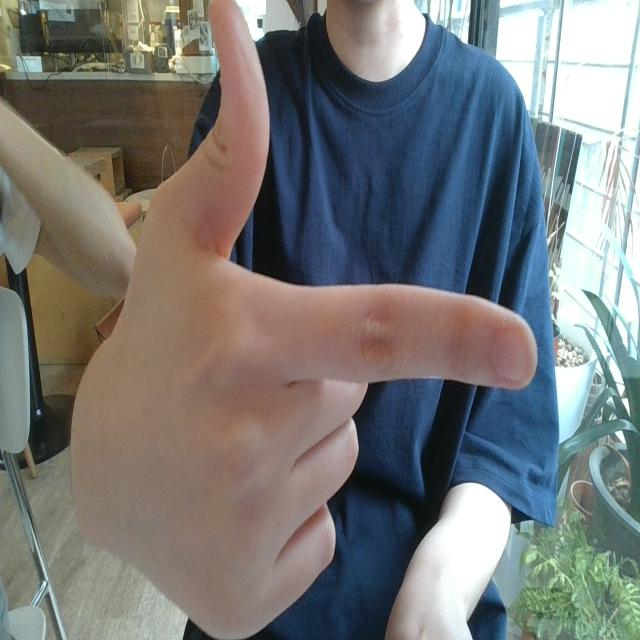nieun: (85, 0, 551, 640)
